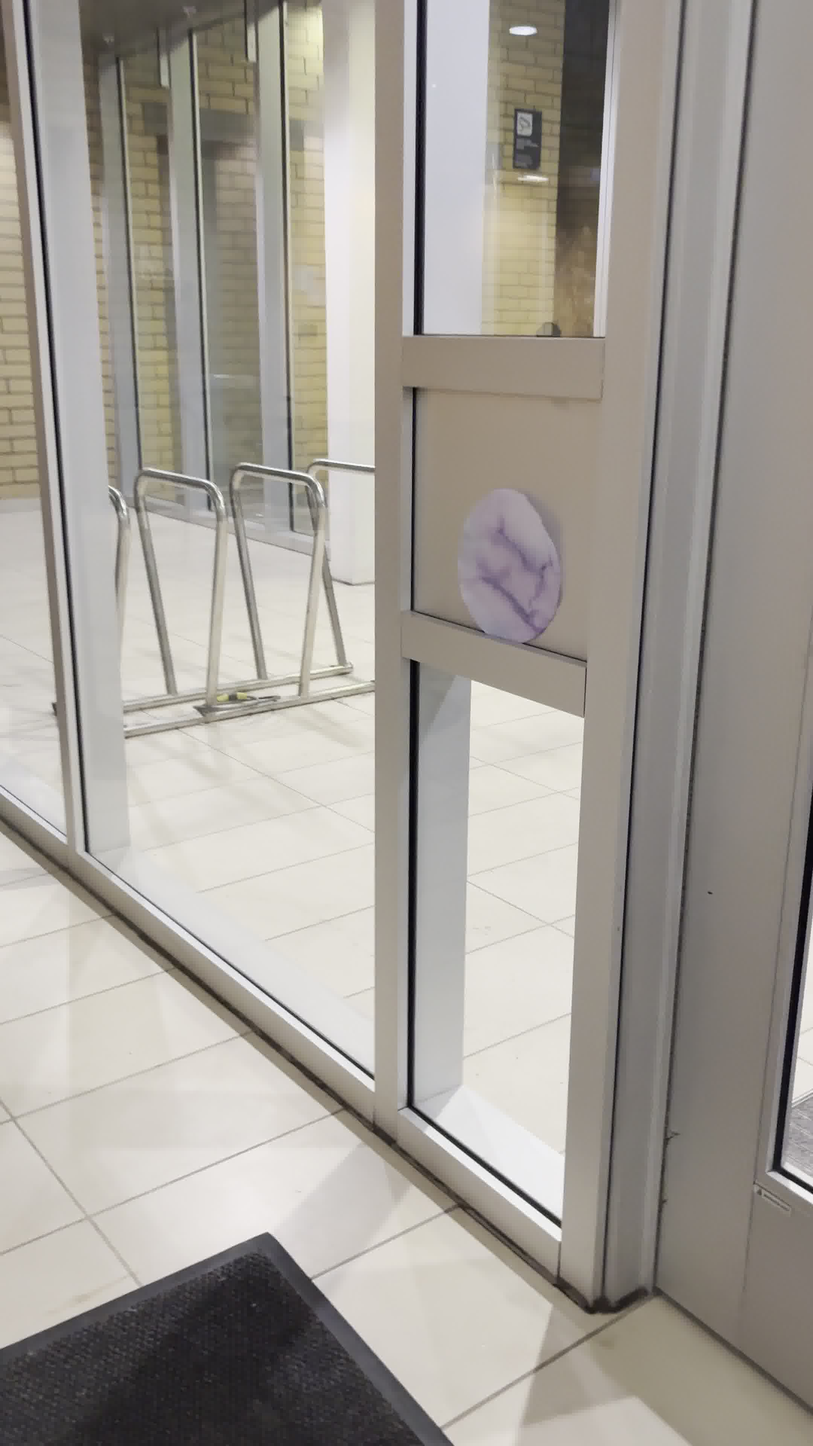Target: (448, 470, 573, 650)
